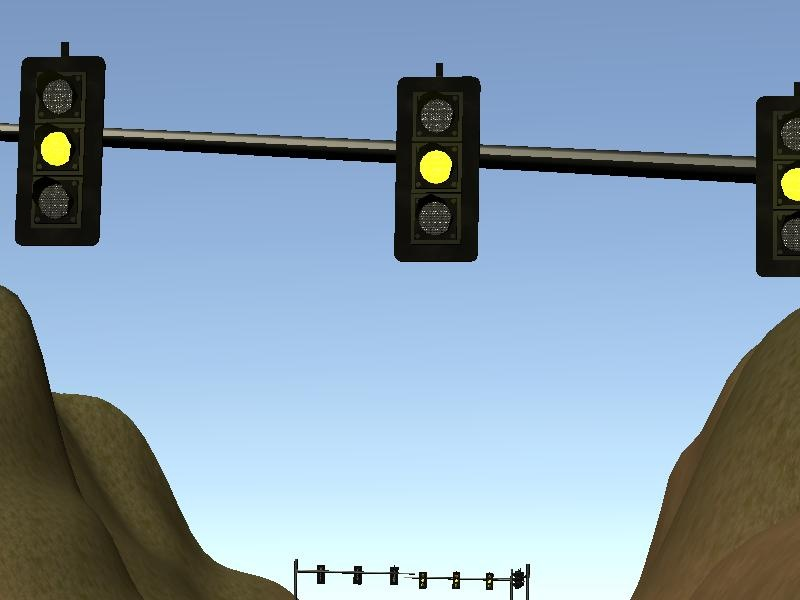YELLOW: (12, 58, 105, 246), (393, 78, 480, 262)
